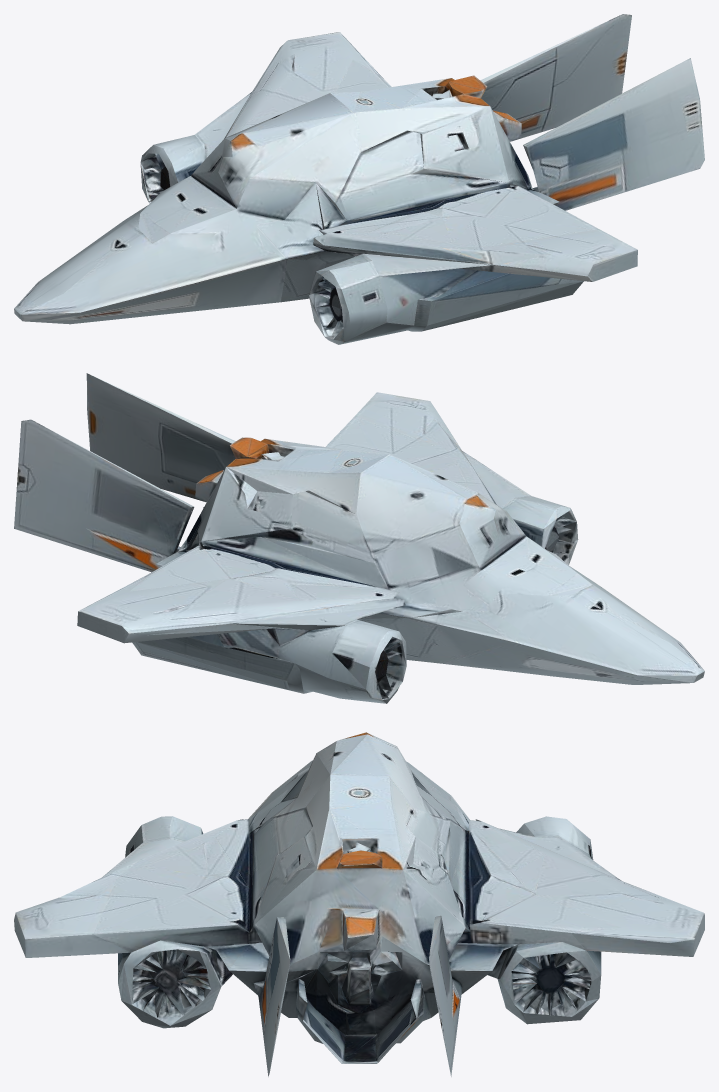
Rendered from nation-u-scout.glb.
The picture shows the model from 3 angles, top to bottom: view 1: azimuth 30°, elevation 25°; view 2: azimuth 150°, elevation 25°; view 3: azimuth 270°, elevation 25°; orthographic projection. The views are drawn at different scales.
Size of the model in its own units: 1.9 by 0.487 by 1.56.
Materials: 1 (1 with a texture image).
